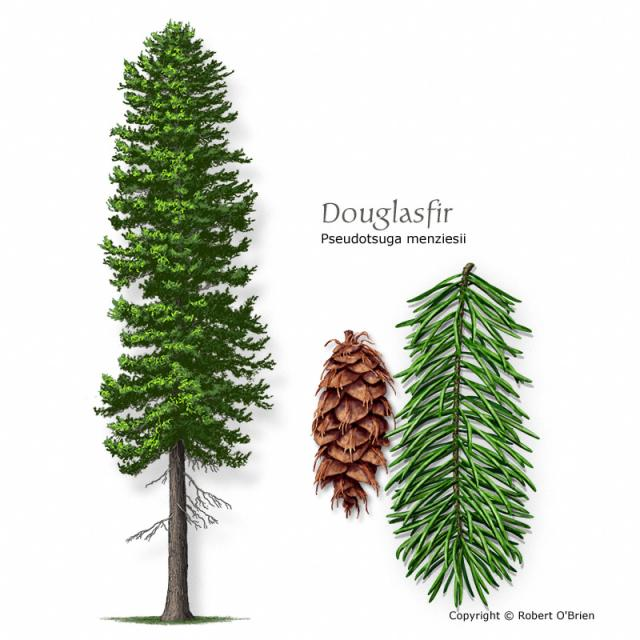Pseudotsuga menziesii: (91, 8, 272, 624)
